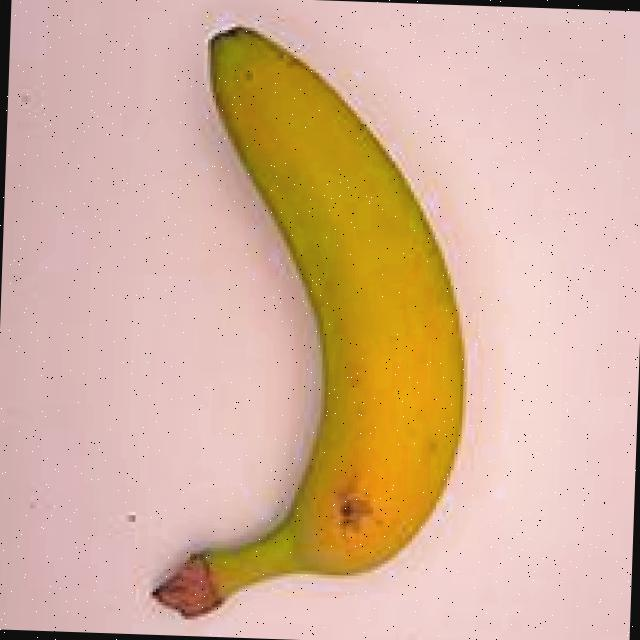Unripe: (107, 11, 512, 640)
